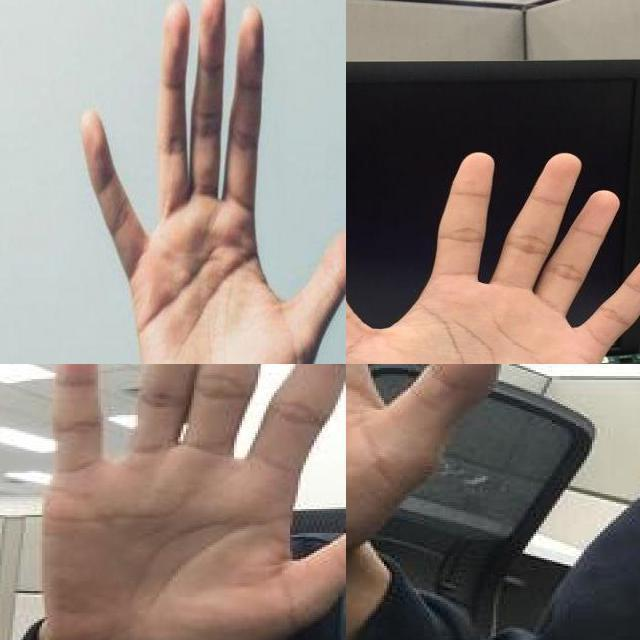hand: (82, 0, 346, 364), (40, 364, 346, 640), (346, 143, 640, 364), (346, 364, 552, 606)
